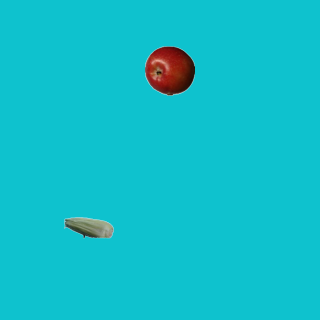Apple Braeburn: (144, 45, 194, 95)
Corn Husk: (63, 202, 113, 252)
